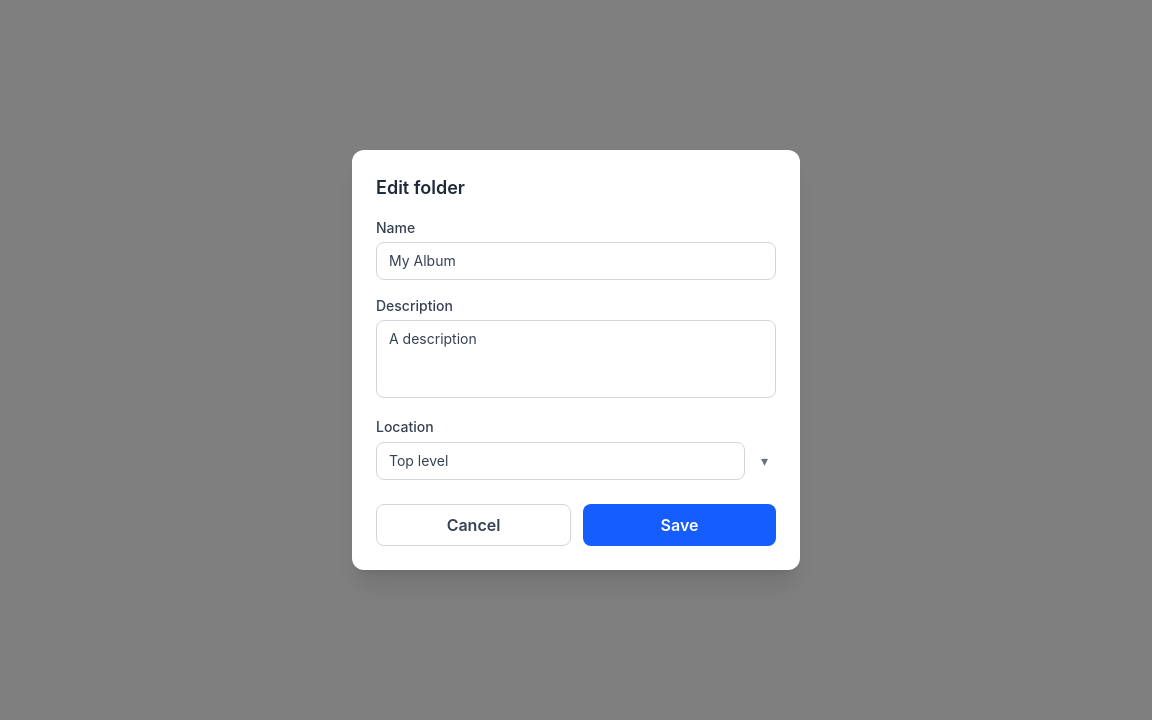
Test case: AlbumEditModal › Location › falls back to a fixed sentence when the failure explains nothing
The image size is (1152, 720).
Click the button with test id "edit-save-button".
click(680, 525)  # box [583, 504, 776, 546]
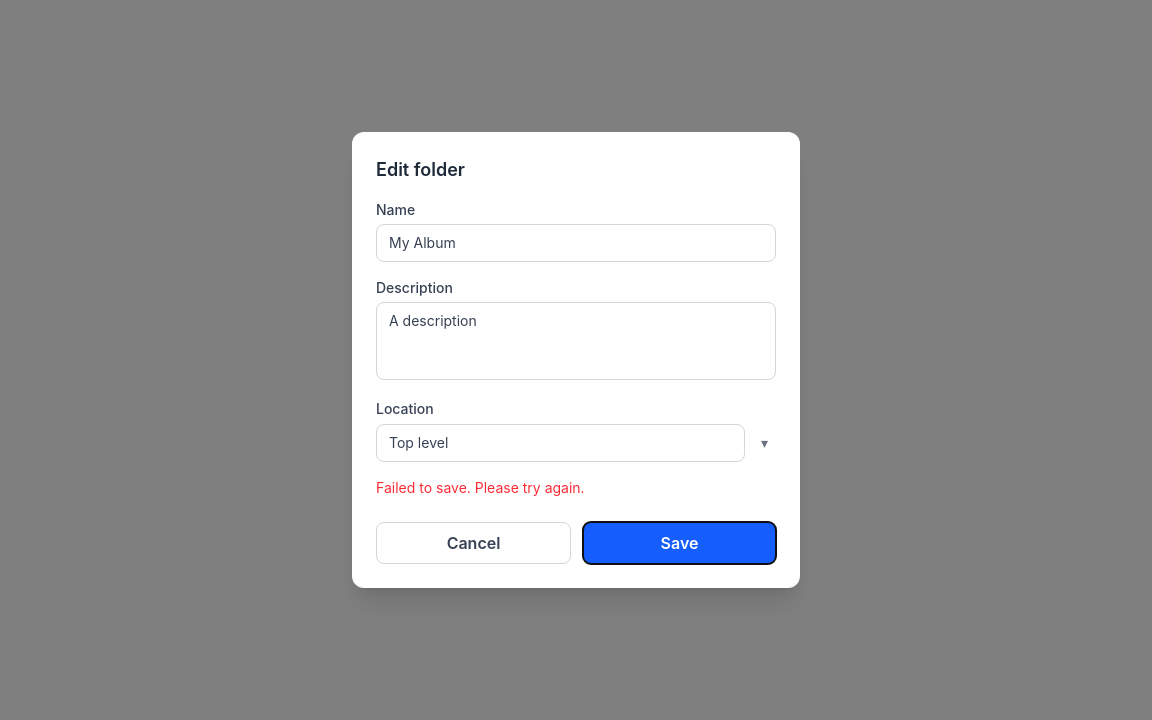
expect the text with test id "album-edit-error" shows "Failed to save": met, box [376, 479, 585, 496]
